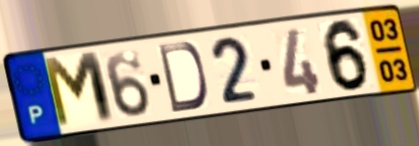2: (211, 33, 266, 109)
4: (280, 24, 324, 97)
6: (321, 16, 375, 94), (103, 49, 153, 119)
D: (156, 40, 210, 115)
M: (38, 49, 120, 133)
